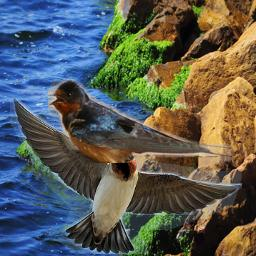Swallow: (10, 95, 242, 254), (48, 79, 233, 163)
